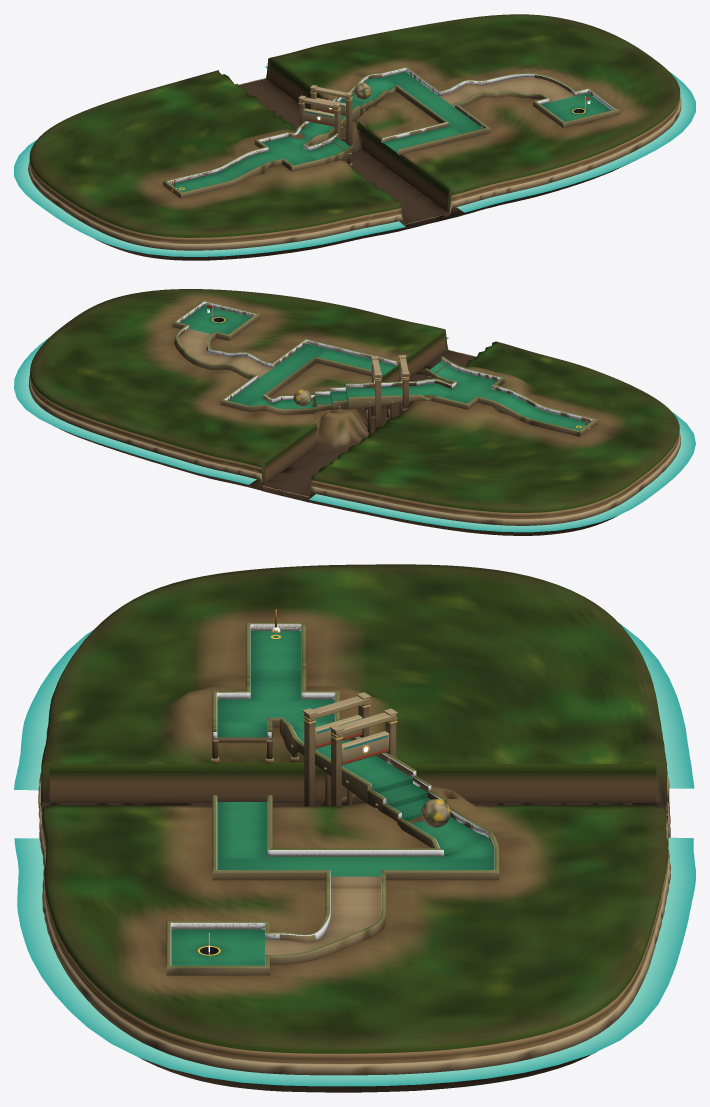
The model's file is course-12.glb.
3 renders of one model, top to bottom at view 1: azimuth 30°, elevation 25°; view 2: azimuth 150°, elevation 25°; view 3: azimuth 270°, elevation 25°, orthographic. The views are drawn at different scales.
Visible parts, largest first — view 1: scenery-matte, floor-felt, rail-trim, water-shore, rail-stone, floor-sand, obstacle-door-a; view 2: scenery-matte, floor-felt, rail-trim, water-shore, rail-stone, floor-sand; view 3: scenery-matte, water-shore, floor-felt, rail-trim, rail-stone, floor-sand, obstacle-door-b.
Part boxes in pixels (bbox=[...]): scenery-matte: bbox=[28, 14, 681, 260]; floor-felt: bbox=[171, 71, 611, 192]; rail-trim: bbox=[163, 66, 619, 198]; water-shore: bbox=[14, 66, 695, 256]; rail-stone: bbox=[167, 68, 615, 192]; floor-sand: bbox=[439, 77, 574, 106]; obstacle-door-a: bbox=[303, 108, 334, 126]; scenery-matte: bbox=[28, 289, 680, 535]; floor-felt: bbox=[180, 305, 589, 430]; rail-trim: bbox=[172, 300, 597, 436]; water-shore: bbox=[14, 336, 695, 532]; rail-stone: bbox=[176, 301, 593, 430]; floor-sand: bbox=[178, 329, 272, 378]; scenery-matte: bbox=[38, 564, 670, 1092]; water-shore: bbox=[14, 623, 695, 1086]; floor-felt: bbox=[171, 631, 494, 965]; rail-trim: bbox=[166, 622, 499, 975]; rail-stone: bbox=[170, 624, 494, 965]; floor-sand: bbox=[265, 876, 380, 954]; obstacle-door-b: bbox=[342, 731, 389, 765].
Size of the model in its own units: 40.95 by 4.59 by 23.27.
